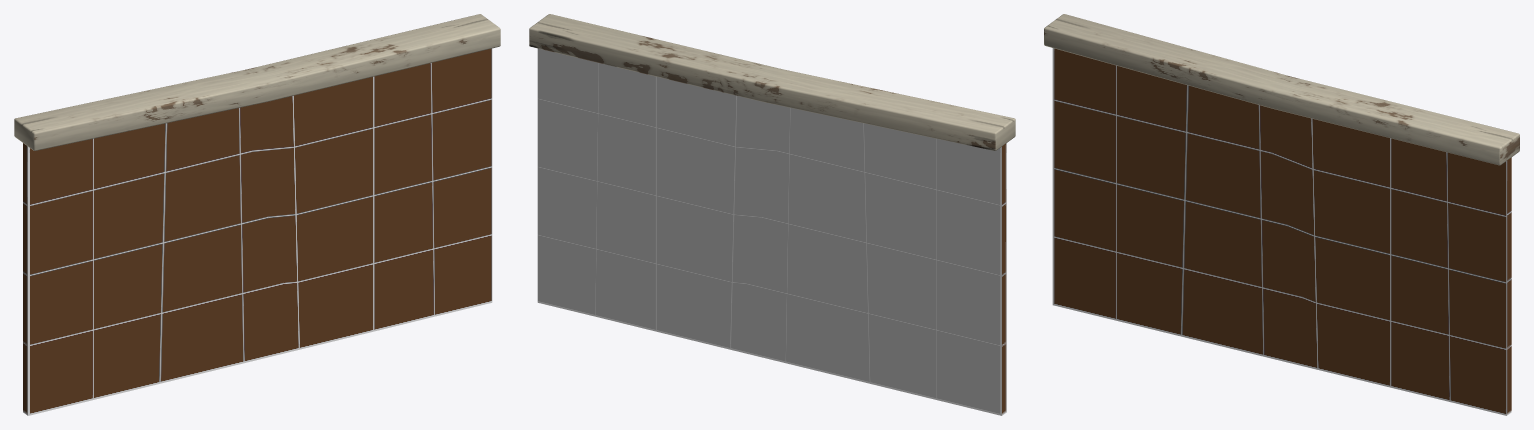
The model's file is Hangar01P_3.FBX.
3 renders of one model, left to right at view 1: azimuth 30°, elevation 25°; view 2: azimuth 150°, elevation 25°; view 3: azimuth 330°, elevation 25°, orthographic. The views are drawn at different scales.
Visible parts, largest first — view 1: Hangar01P_3; view 2: Hangar01P_3; view 3: Hangar01P_3.
Boxes of the visible parts, left/top/right/bottom form: Hangar01P_3: left=14, top=14, right=500, bottom=415; Hangar01P_3: left=529, top=14, right=1015, bottom=415; Hangar01P_3: left=1044, top=14, right=1519, bottom=415.
Size of what is drawn, in the model's own units: 2.62 by 1.55 by 0.2.
